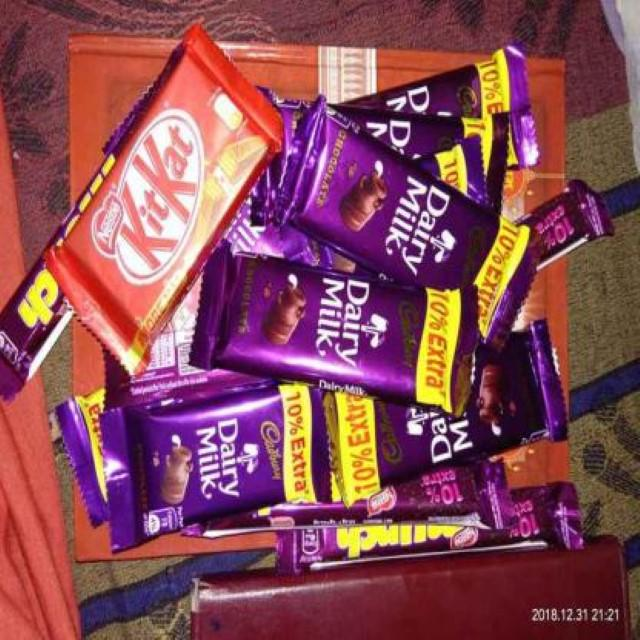cadbury_chocolate: (305, 100, 522, 297), (210, 244, 470, 394), (356, 332, 556, 468), (101, 412, 326, 515)
kitkat_chocolate: (43, 64, 260, 358)
